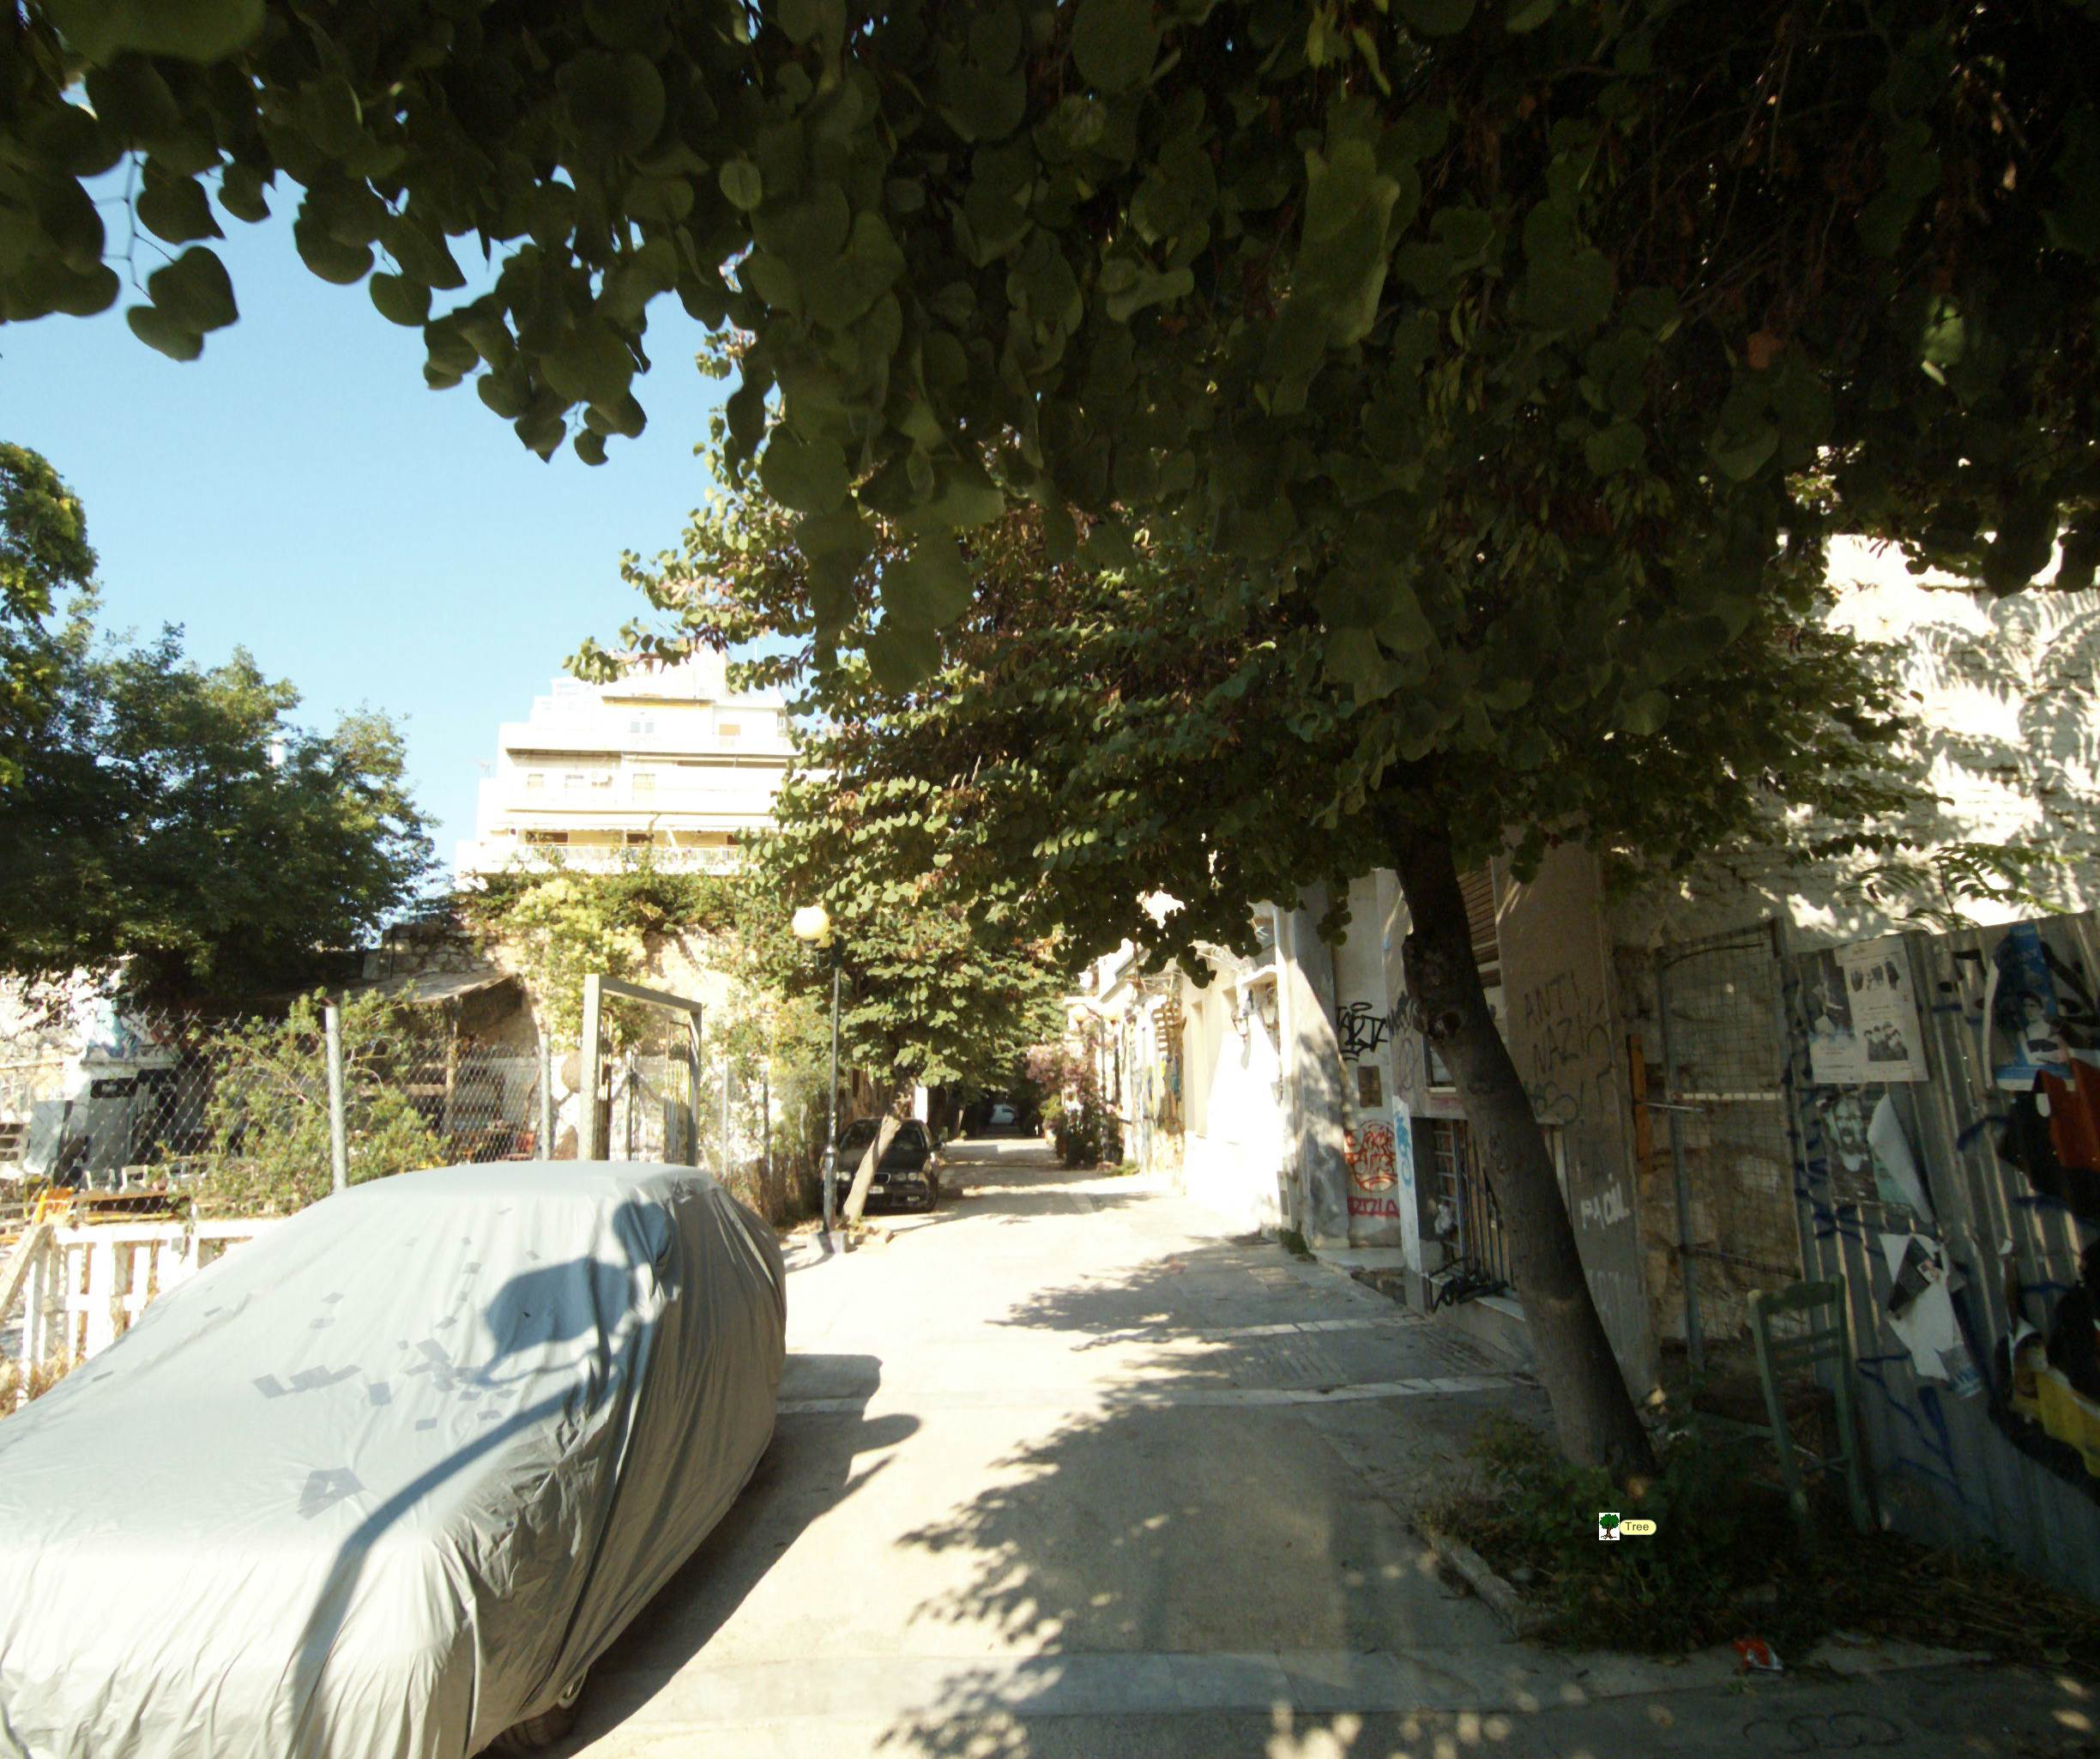tree: (1059, 10, 1948, 1598)
